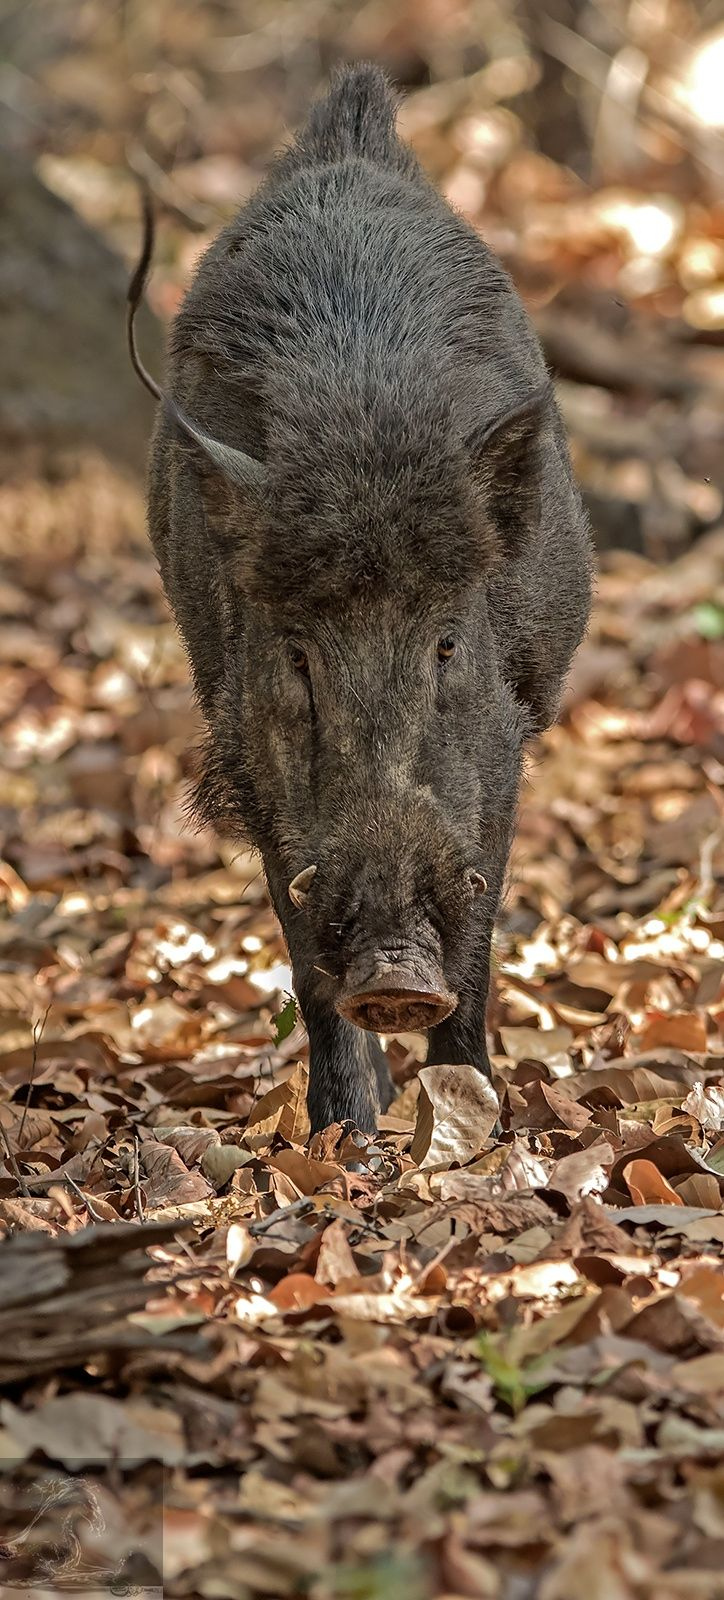wild boar: (90, 38, 619, 1291)
